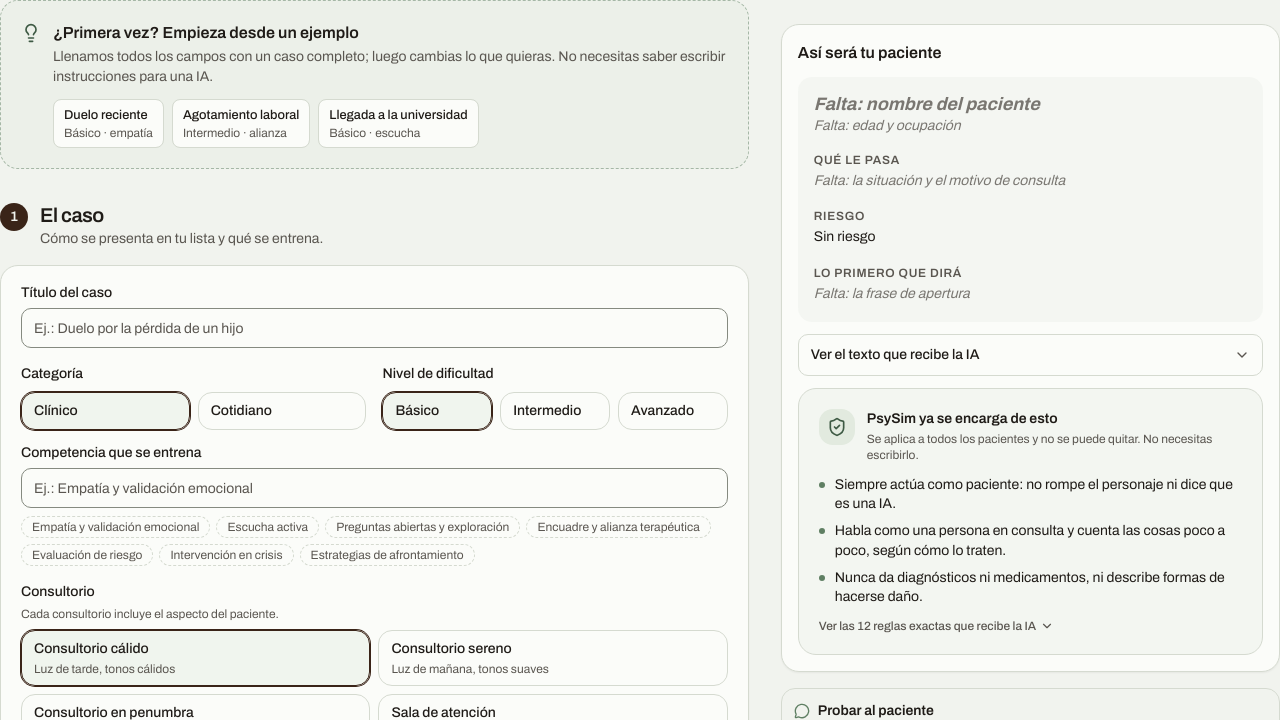
Test: ConstructorCaso › las sugerencias de competencia llenan el campo con un clic
The image size is (1280, 720).
Click the button "Escucha activa" at [268, 527], box [216,516,319,538]
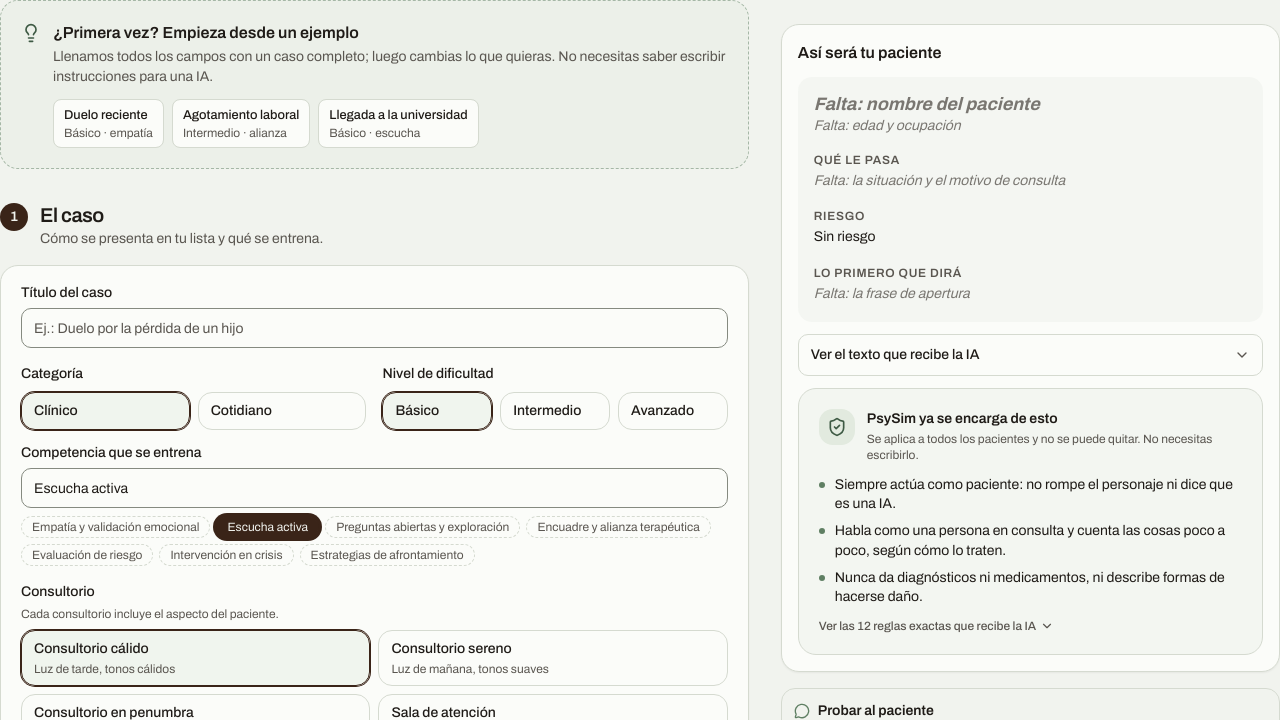
Result: the field labelled "Competencia que se entrena" holds "Escucha activa" at [21,468,728,508]
